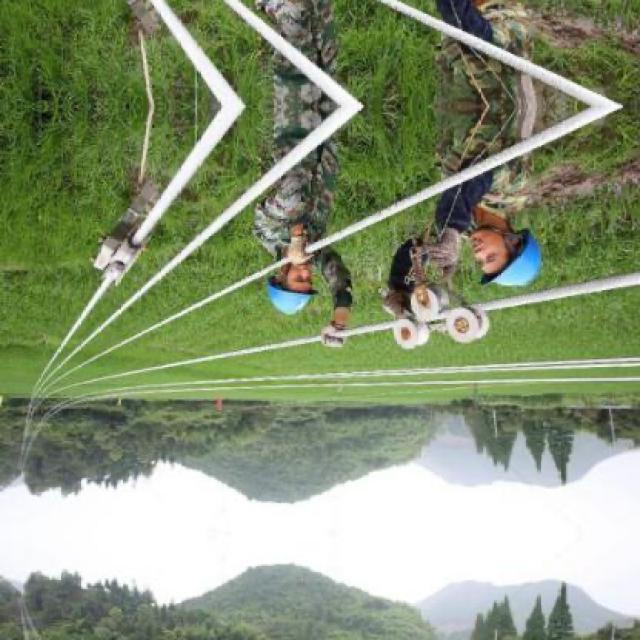con casco: (255, 225, 356, 338), (452, 221, 551, 304)
